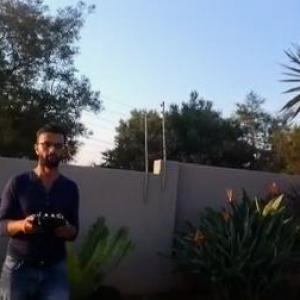follow: (0, 111, 82, 299)
